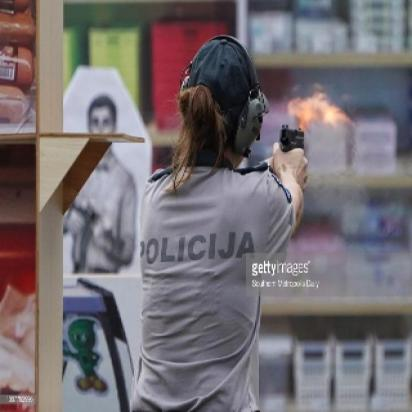Gun: (276, 122, 306, 151)
